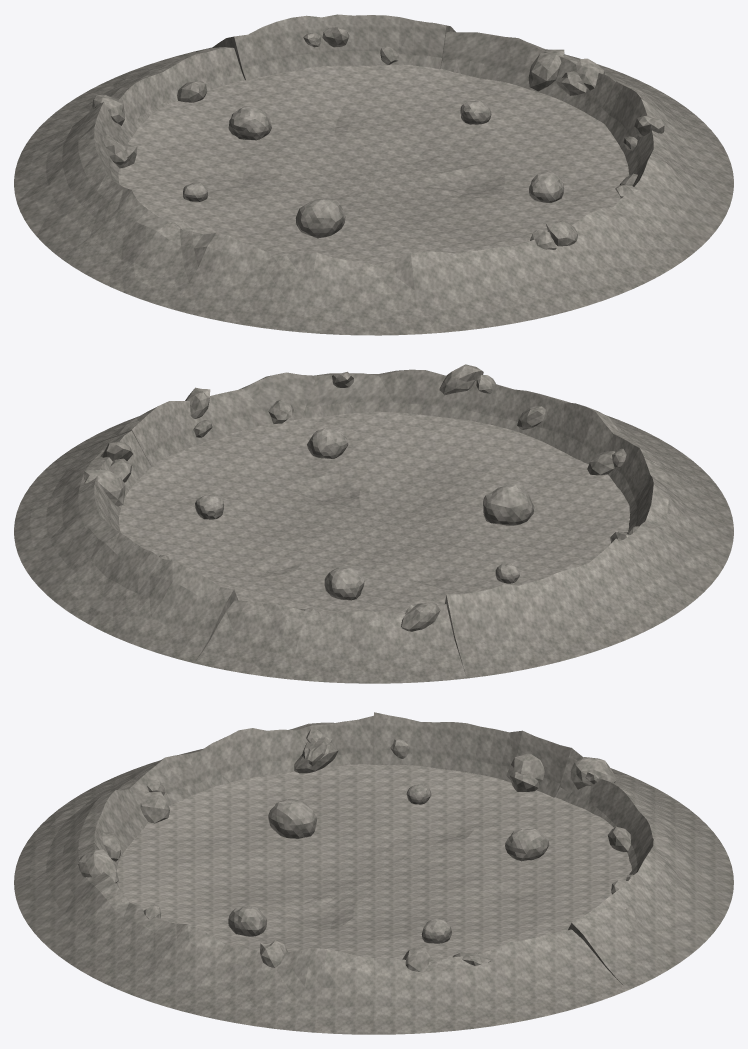
File: boss-arena.glb
3 views of the same model, one above another, from view 1: azimuth 30°, elevation 25°; view 2: azimuth 150°, elevation 25°; view 3: azimuth 270°, elevation 25° (orthographic).
Visible parts, largest first — view 1: arena-floor-geo, rim-6-geo, rim-5-geo, rim-7-geo, rim-4-geo, rim-2-geo, rim-8-geo, rim-1-geo, rim-3-geo, boulder-1-geo, boulder-4-geo, boulder-2-geo (+1 smaller); view 2: arena-floor-geo, rim-4-geo, rim-3-geo, rim-2-geo, rim-5-geo, rim-1-geo, rim-7-geo, rim-6-geo, rim-8-geo, boulder-1-geo, boulder-4-geo, boulder-2-geo (+1 smaller); view 3: arena-floor-geo, rim-8-geo, rim-1-geo, rim-2-geo, rim-7-geo, rim-4-geo, rim-6-geo, rim-3-geo, rim-5-geo, boulder-1-geo, boulder-4-geo, boulder-2-geo (+1 smaller).
Boxes of the visible parts, bbox=[...] form: arena-floor-geo: bbox=[118, 64, 629, 264]; rim-6-geo: bbox=[281, 246, 553, 335]; rim-5-geo: bbox=[62, 194, 301, 330]; rim-7-geo: bbox=[514, 171, 721, 314]; rim-4-geo: bbox=[14, 101, 137, 259]; rim-2-geo: bbox=[194, 14, 455, 80]; rim-8-geo: bbox=[596, 81, 733, 222]; rim-1-geo: bbox=[440, 31, 684, 118]; rim-3-geo: bbox=[26, 47, 244, 144]; boulder-1-geo: bbox=[295, 198, 345, 238]; boulder-4-geo: bbox=[228, 106, 271, 140]; boulder-2-geo: bbox=[529, 171, 564, 202]; arena-floor-geo: bbox=[119, 411, 630, 614]; rim-4-geo: bbox=[445, 538, 685, 678]; rim-3-geo: bbox=[194, 600, 466, 683]; rim-2-geo: bbox=[26, 518, 238, 663]; rim-5-geo: bbox=[610, 457, 733, 607]; rim-1-geo: bbox=[14, 430, 151, 570]; rim-7-geo: bbox=[301, 364, 513, 427]; rim-6-geo: bbox=[502, 389, 721, 492]; rim-8-geo: bbox=[63, 372, 307, 466]; boulder-1-geo: bbox=[483, 485, 534, 525]; boulder-4-geo: bbox=[324, 566, 364, 600]; boulder-2-geo: bbox=[307, 427, 348, 458]; arena-floor-geo: bbox=[117, 764, 631, 960]; rim-8-geo: bbox=[120, 923, 373, 1034]; rim-1-geo: bbox=[374, 929, 627, 1034]; rim-2-geo: bbox=[568, 838, 733, 989]; rim-7-geo: bbox=[14, 844, 175, 989]; rim-4-geo: bbox=[374, 712, 627, 797]; rim-6-geo: bbox=[14, 755, 192, 882]; rim-3-geo: bbox=[555, 757, 733, 882]; rim-5-geo: bbox=[120, 715, 373, 795]; boulder-1-geo: bbox=[268, 799, 316, 838]; boulder-4-geo: bbox=[505, 828, 549, 861]; boulder-2-geo: bbox=[228, 906, 266, 936].
Size of the model in its own units: 80 by 7.71 by 80.
2 materials, 2 textured.
